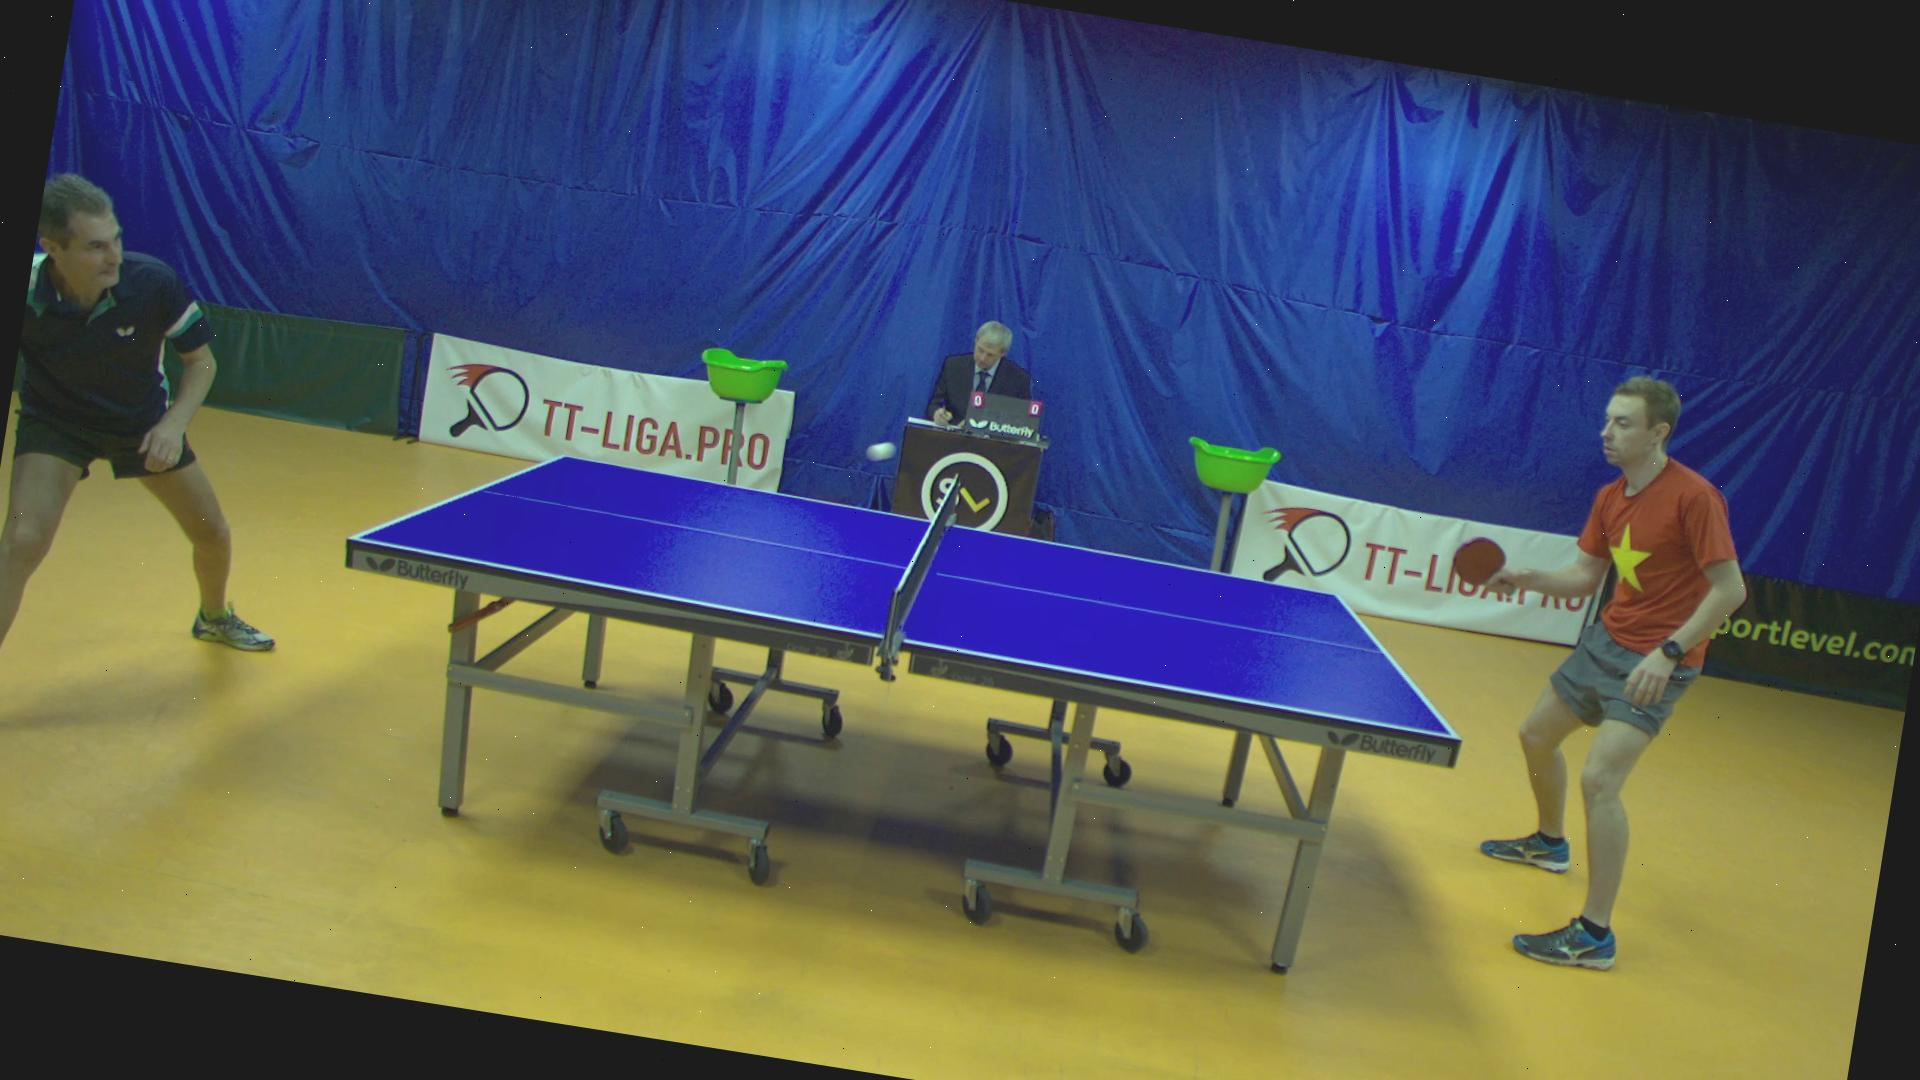ball: (858, 433, 902, 469)
